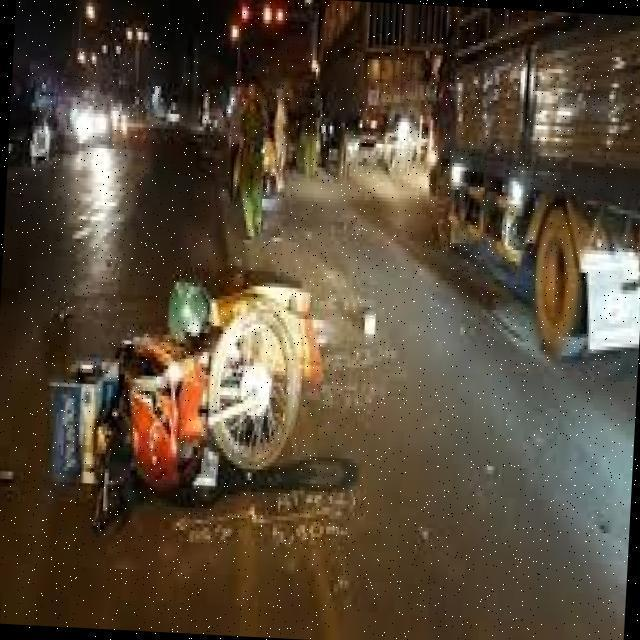accident: (24, 240, 384, 519)
